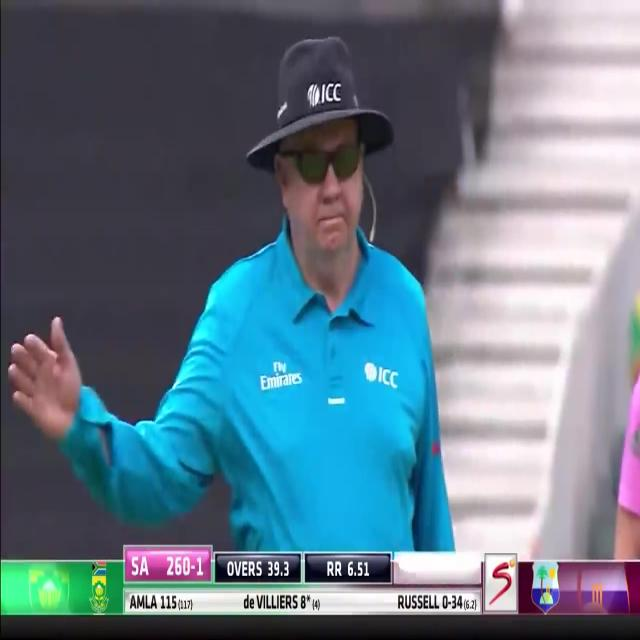Umpire: (118, 0, 486, 564)
